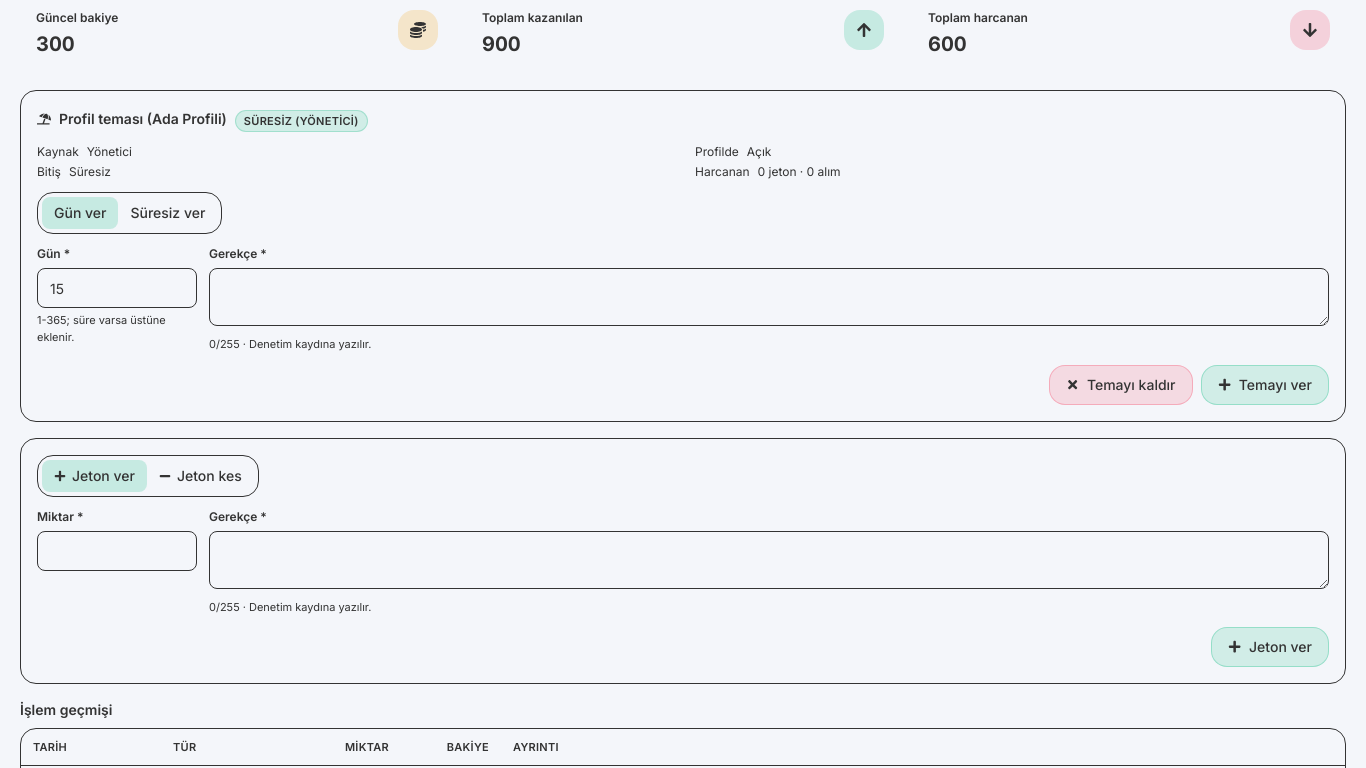
Test: GameCoins › Profil teması › vazgeçilirse hiçbir istek atılmaz
(page scrolled)
Click the button "Temayı kaldır" at (1121, 384), box x1=1049 y1=364 x2=1193 y2=404
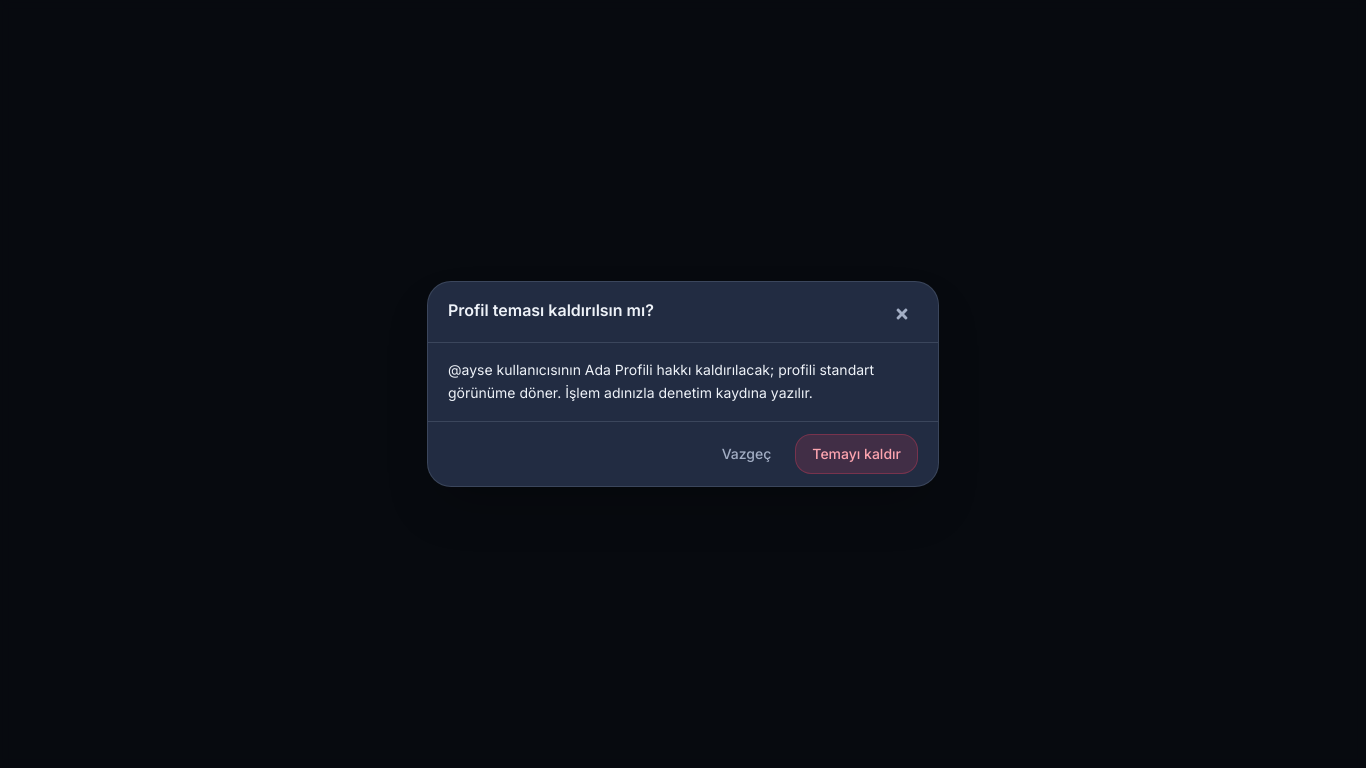
Click the button "Vazgeç" at (746, 454), box x1=706 y1=434 x2=787 y2=474
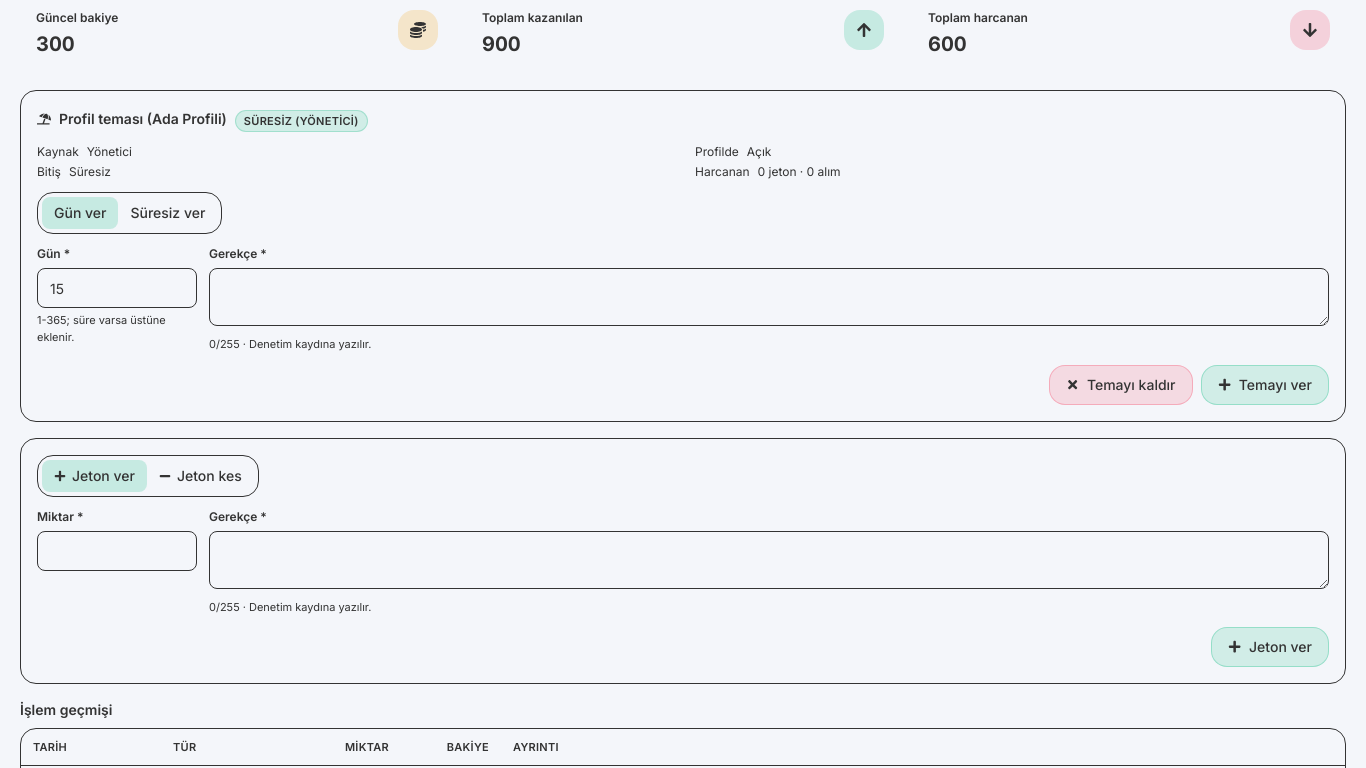
Check: the dialog is gone
